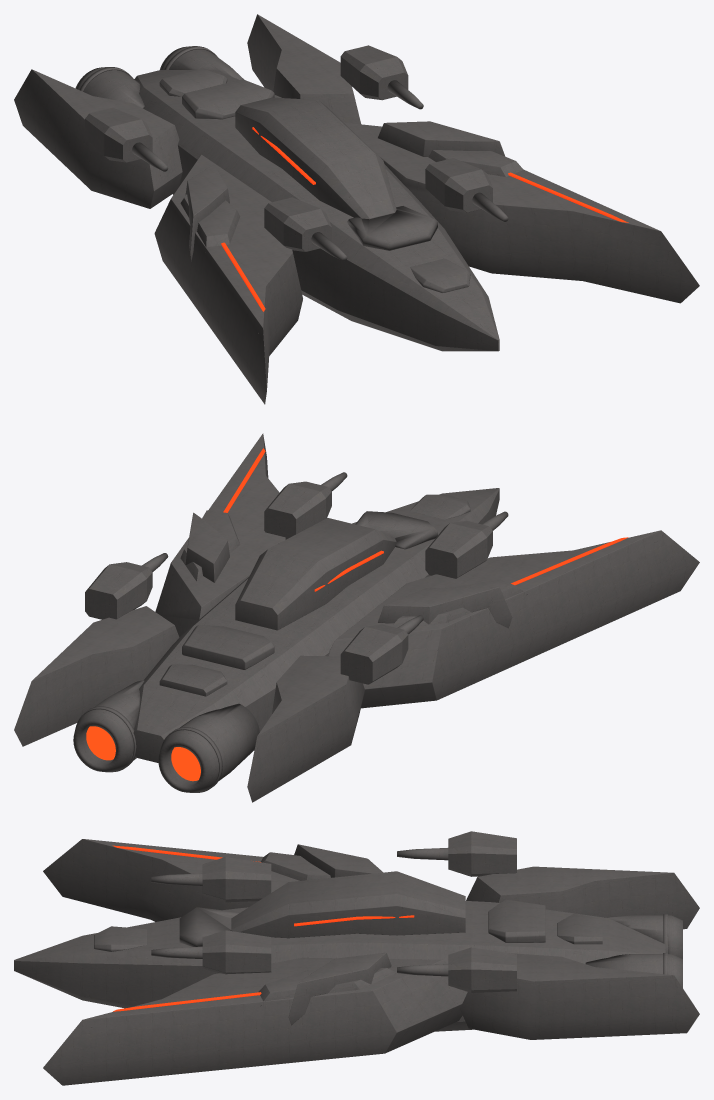
The model's file is regulatory_warship_open.glb.
3 views of the same model, one above another, from view 1: azimuth 30°, elevation 25°; view 2: azimuth 150°, elevation 25°; view 3: azimuth 270°, elevation 25° (orthographic). The views are drawn at different scales.
Visible parts, largest first — view 1: Warship_PBR_01, Warship_PBR_00, Warship_PBR_04, Warship_PBR_02; view 2: Warship_PBR_01, Warship_PBR_00, Warship_PBR_04, Warship_PBR_03, Warship_PBR_02; view 3: Warship_PBR_01, Warship_PBR_00, Warship_PBR_04, Warship_PBR_02.
Part boxes in pixels (x1=…): Warship_PBR_01: x1=14, y1=14, x2=699, y2=404; Warship_PBR_00: x1=75, y1=46, x2=523, y2=333; Warship_PBR_04: x1=85, y1=45, x2=492, y2=251; Warship_PBR_02: x1=221, y1=127, x2=628, y2=311; Warship_PBR_01: x1=14, y1=433, x2=699, y2=802; Warship_PBR_00: x1=73, y1=472, x2=657, y2=792; Warship_PBR_04: x1=85, y1=481, x2=492, y2=684; Warship_PBR_03: x1=86, y1=726, x2=200, y2=781; Warship_PBR_02: x1=223, y1=448, x2=628, y2=591; Warship_PBR_01: x1=14, y1=839, x2=699, y2=1085; Warship_PBR_00: x1=90, y1=848, x2=682, y2=1027; Warship_PBR_04: x1=202, y1=831, x2=516, y2=992; Warship_PBR_02: x1=112, y1=845, x2=414, y2=1011.
Bounding box in the file's own units: 81.48 × 25 × 120.
6 materials, 4 textured.
